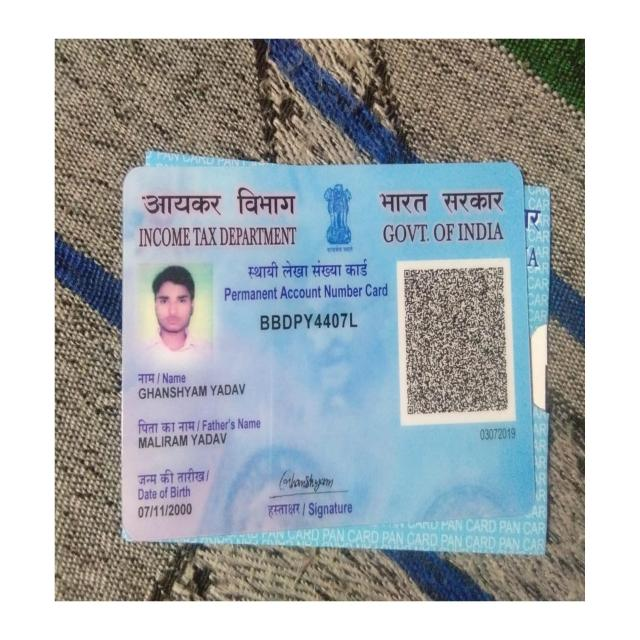pan_card: (125, 166, 533, 540)
